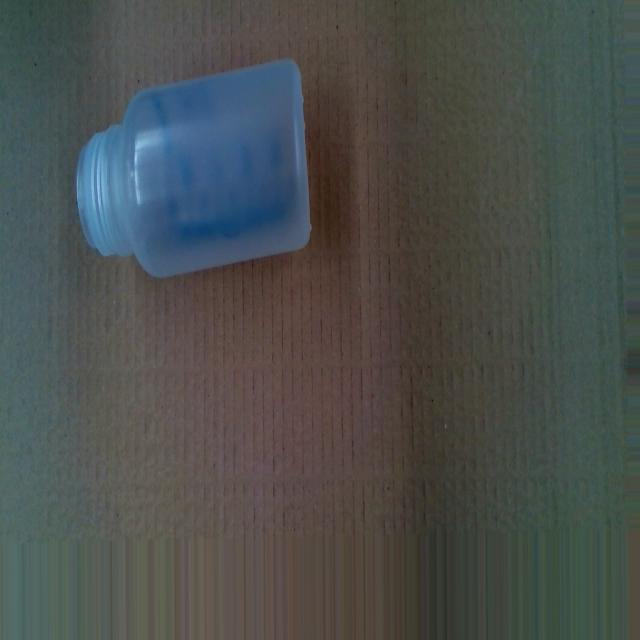bottle: (74, 57, 313, 280)
